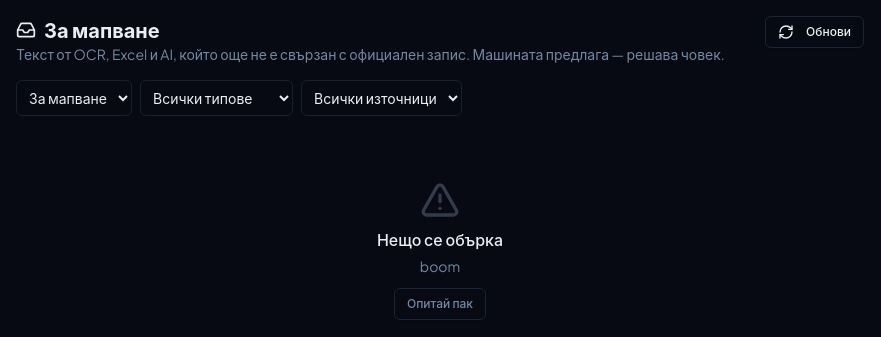
Test: any other failure offers a retry that actually retries
Check: the element with test id "md-error" is shown, box [377,180,503,320]
Click the button with test id "md-retry".
click(440, 304)  # box [394,288,486,320]
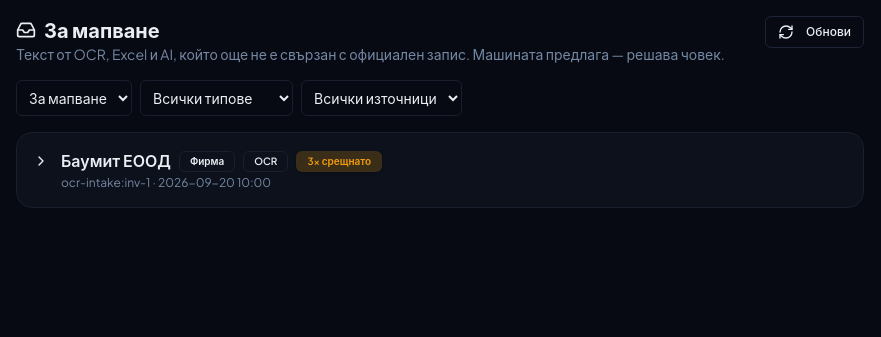
Check: the element with test id "md-row-p-1" is shown, box [16,132,864,208]
